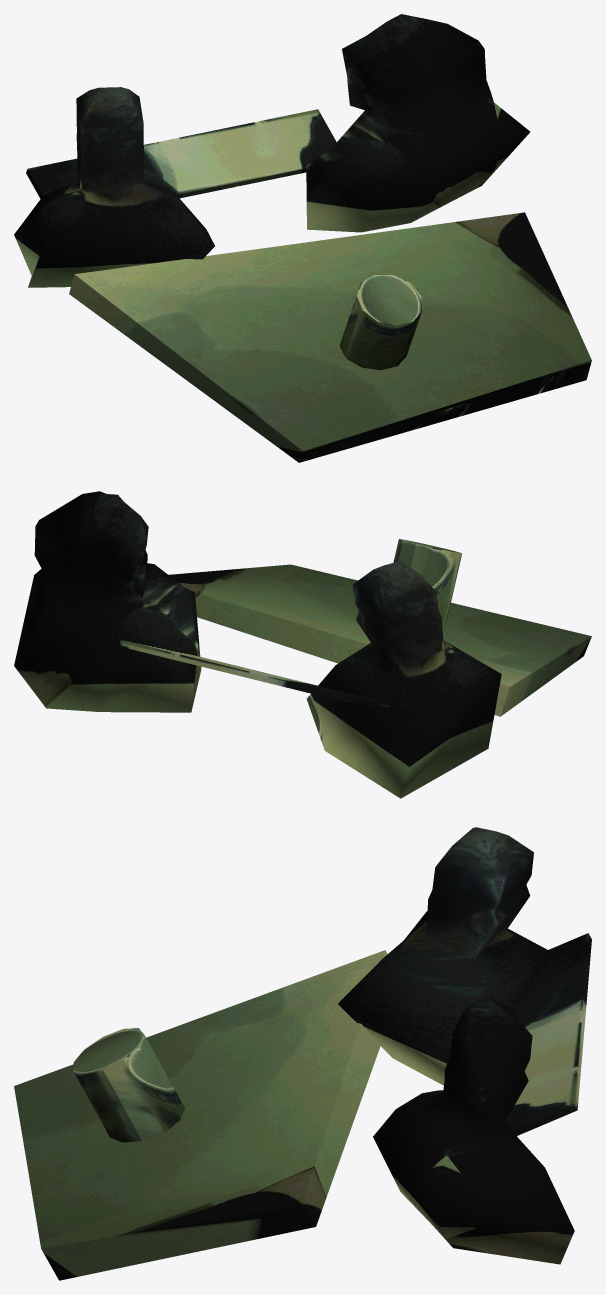
Rendered from MOD_PeepHoleJmin.fbx.
The picture shows the model from 3 angles, top to bottom: view 1: azimuth 30°, elevation 25°; view 2: azimuth 150°, elevation 25°; view 3: azimuth 270°, elevation 25°; orthographic projection. The views are drawn at different scales.
Parts seen in each view (by area): view 1: Cube.001, Cube.004, Cube.003, Cube.002; view 2: Cube.004, Cube.003, Cube.001, Cube.002; view 3: Cube.001, Cube.004, Cube.003, Cube.002.
Boxes of the visible parts, <box> form: Cube.001: <box>69,212,591,462</box>; Cube.004: <box>306,14,530,232</box>; Cube.003: <box>14,87,214,287</box>; Cube.002: <box>26,109,336,198</box>; Cube.004: <box>14,491,201,712</box>; Cube.003: <box>306,561,501,798</box>; Cube.001: <box>169,539,591,716</box>; Cube.002: <box>119,640,407,715</box>; Cube.001: <box>14,950,387,1280</box>; Cube.004: <box>373,996,574,1264</box>; Cube.003: <box>338,827,547,1085</box>; Cube.002: <box>506,933,591,1135</box>.
Size of the model in its own units: 304 by 138 by 264.
